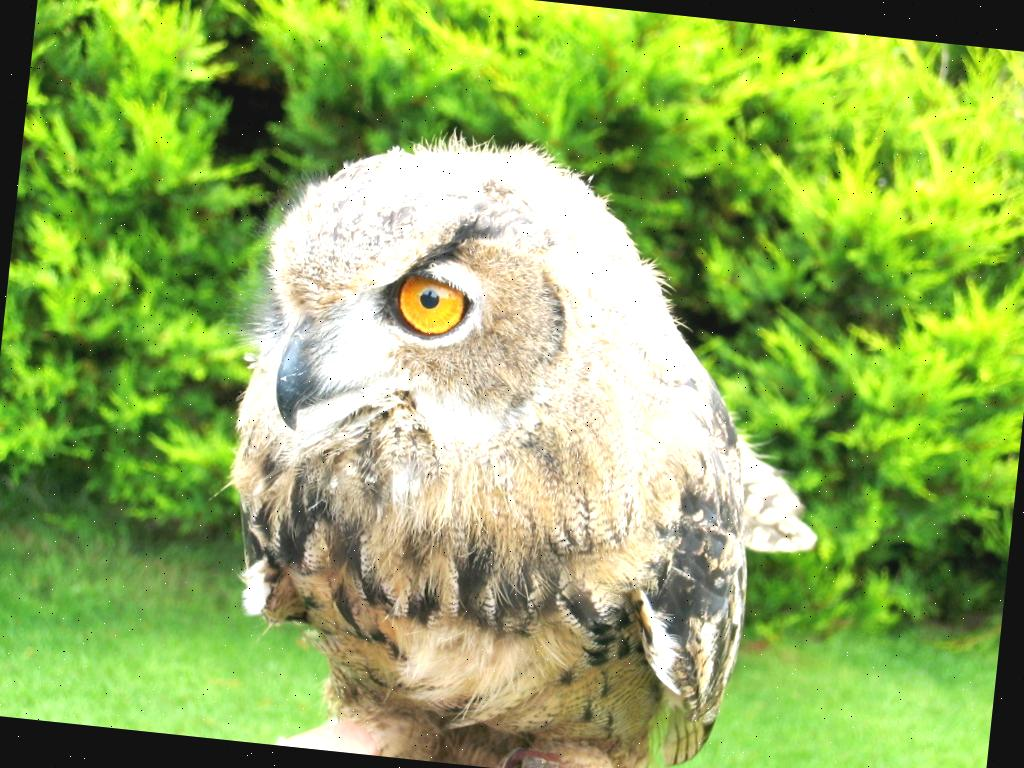Owl: (179, 103, 856, 768)
